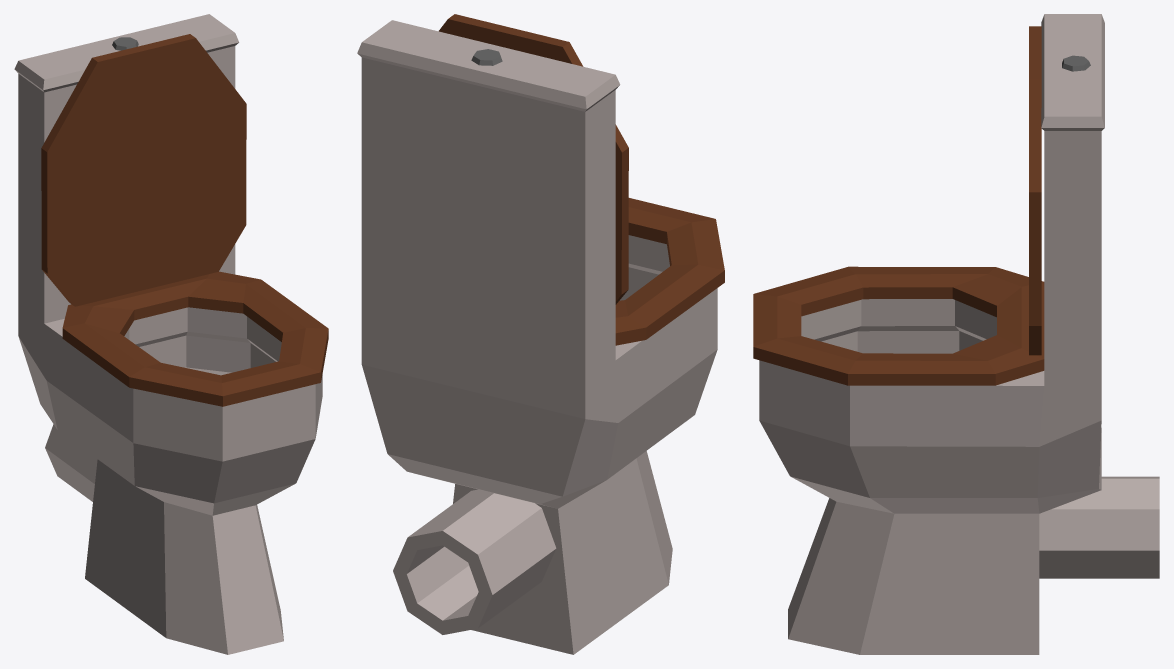
The model's file is Toilet.glb.
The picture shows the model from 3 angles, left to right: view 1: azimuth 30°, elevation 25°; view 2: azimuth 150°, elevation 25°; view 3: azimuth 270°, elevation 25°; orthographic projection. The views are drawn at different scales.
Visible parts, largest first — view 1: Toilet; view 2: Toilet; view 3: Toilet.
Boxes of the visible parts, <box> form: Toilet: <box>14,14,328,654</box>; Toilet: <box>357,14,724,654</box>; Toilet: <box>753,14,1159,654</box>.
Bounding box in the file's own units: 0.2981 × 0.7403 × 0.4775.
